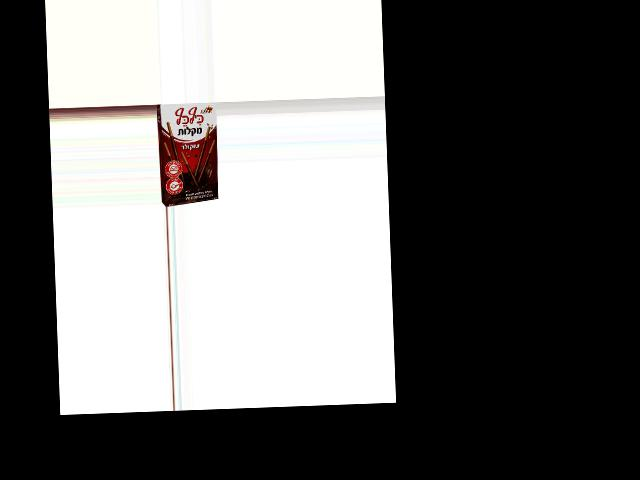chocolate: (157, 102, 220, 200)
